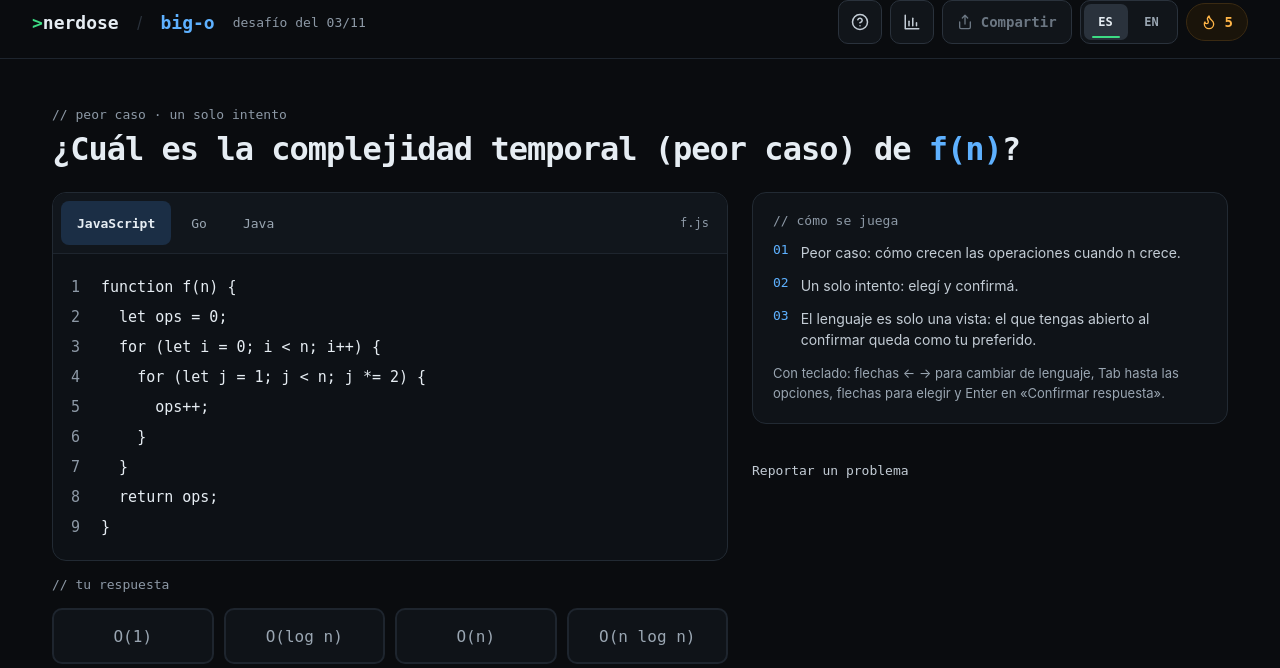
Test: errores del ciclo común › TS-26: challenge_expired vuelve a instrucciones del día nuevo
This screenshot has width=1280, height=668.
Click the radio button labelled "O(n)" at coordinates (476, 636), box [395,608,556,664]
(page scrolled)
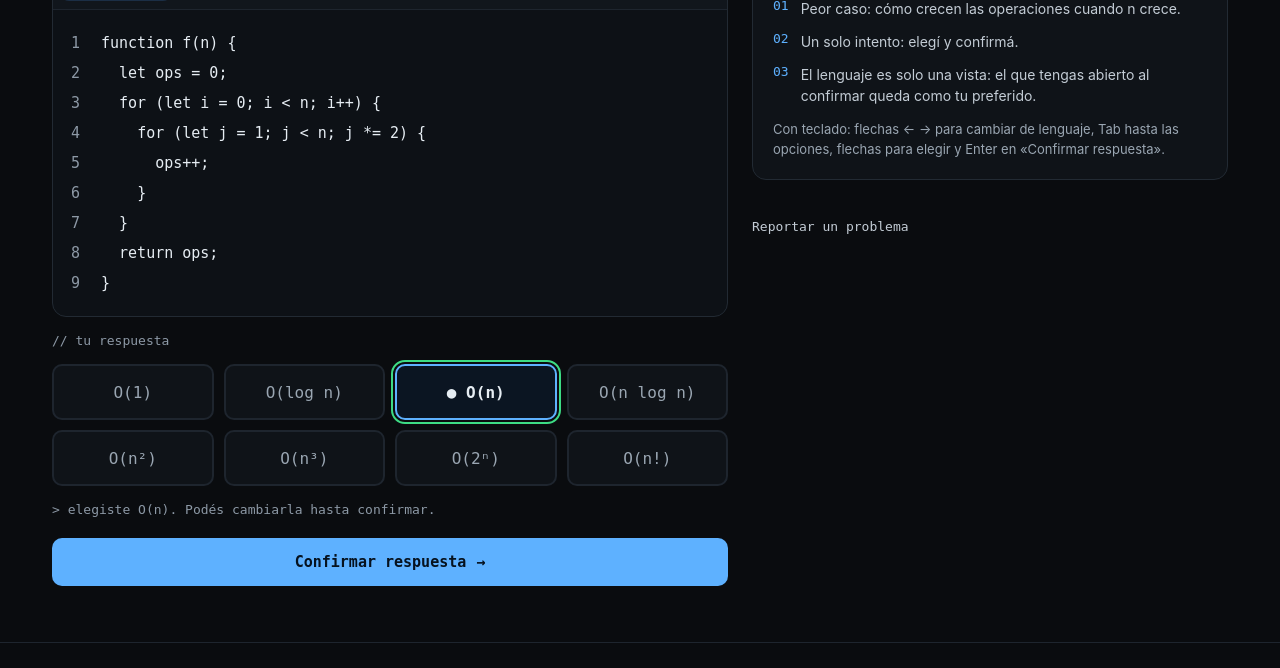
Click the button "Confirmar respuesta →" at coordinates (390, 562), box [52,538,728,586]
(page scrolled)
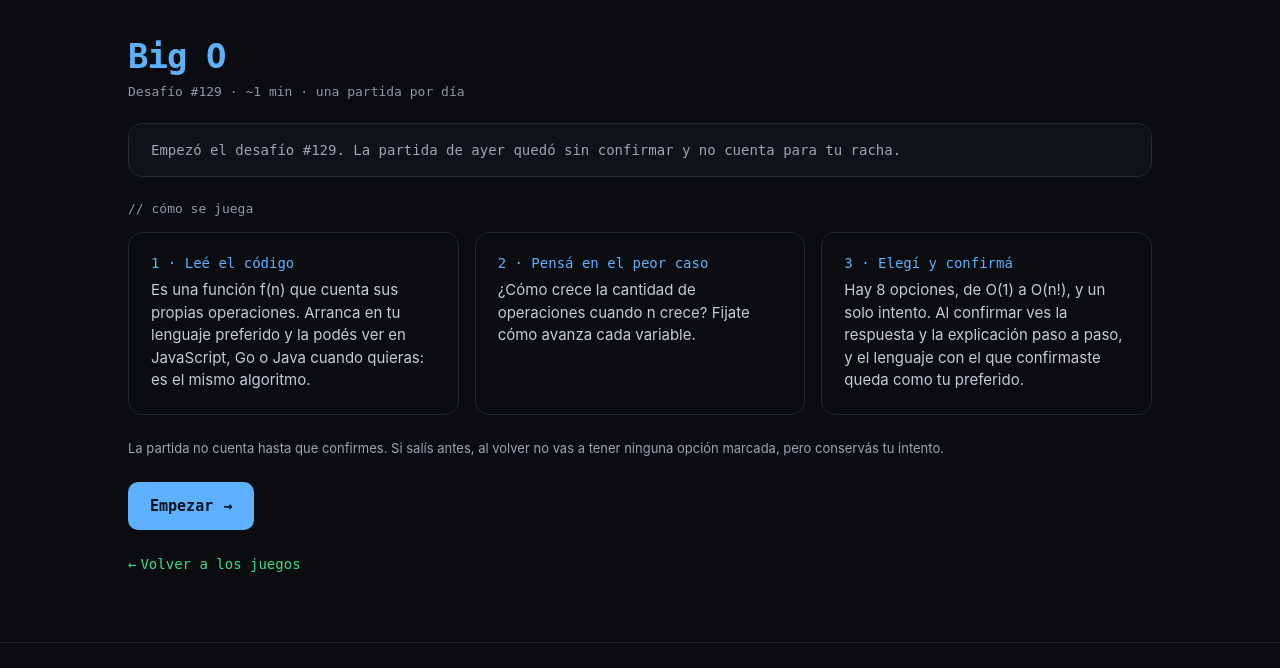
expect the text "Desafío #129 · ~1 min · una partida por día" is shown: met, box [128,84,464,99]
expect the heading "Big O" is shown: met, box [128,36,225,76]
expect the text "Empezó el desafío #129. La partida de ayer quedó sin confirmar y no cuenta para tu racha." is shown: met, box [151,142,901,158]
